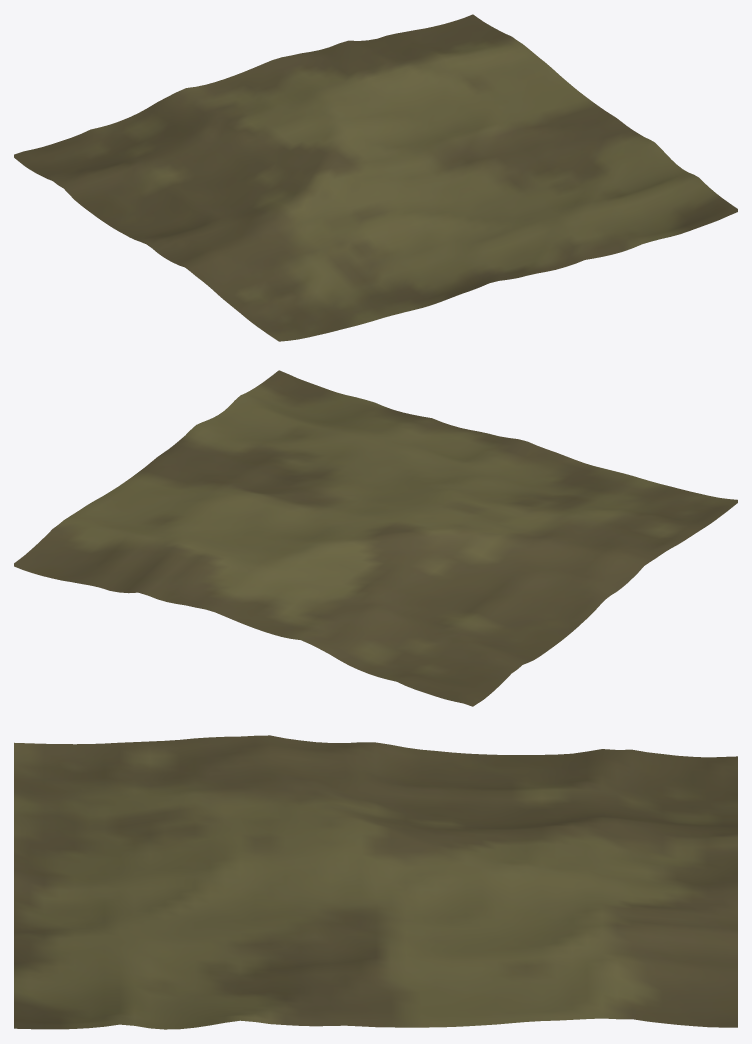
Rendered from land_m_15_04.glb.
The picture shows the model from 3 angles, top to bottom: view 1: azimuth 30°, elevation 25°; view 2: azimuth 150°, elevation 25°; view 3: azimuth 270°, elevation 25°; orthographic projection. The views are drawn at different scales.
Parts seen in each view (by area): view 1: land_m_15_04; view 2: land_m_15_04; view 3: land_m_15_04.
Boxes of the visible parts, bbox=[...] form: land_m_15_04: bbox=[14, 14, 737, 341]; land_m_15_04: bbox=[14, 370, 737, 706]; land_m_15_04: bbox=[14, 735, 737, 1029].
Size of the model in its own units: 960 by 87.87 by 960.
